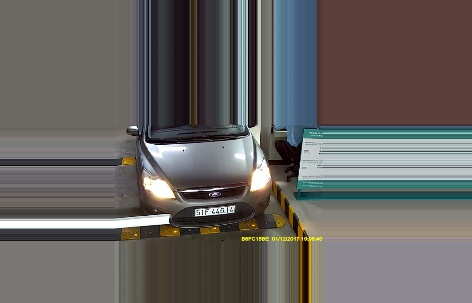plate: (193, 202, 238, 217)
